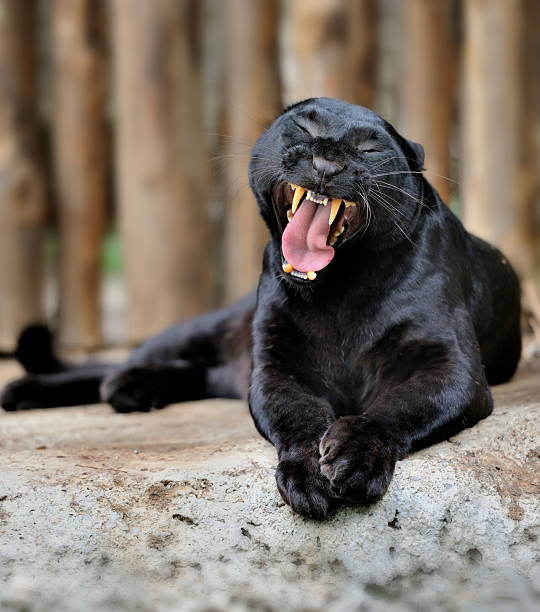panther: (217, 82, 468, 309)
